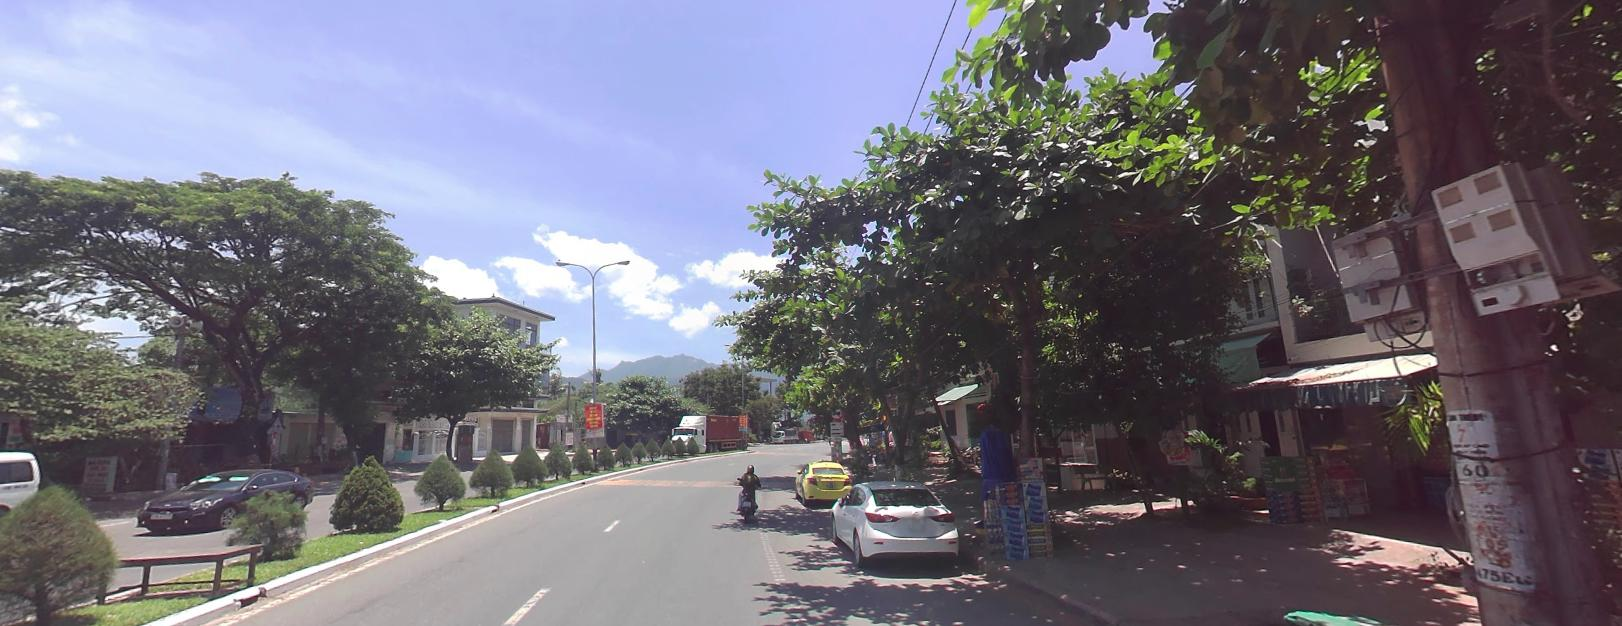Cam con lai: (829, 403, 845, 421)
